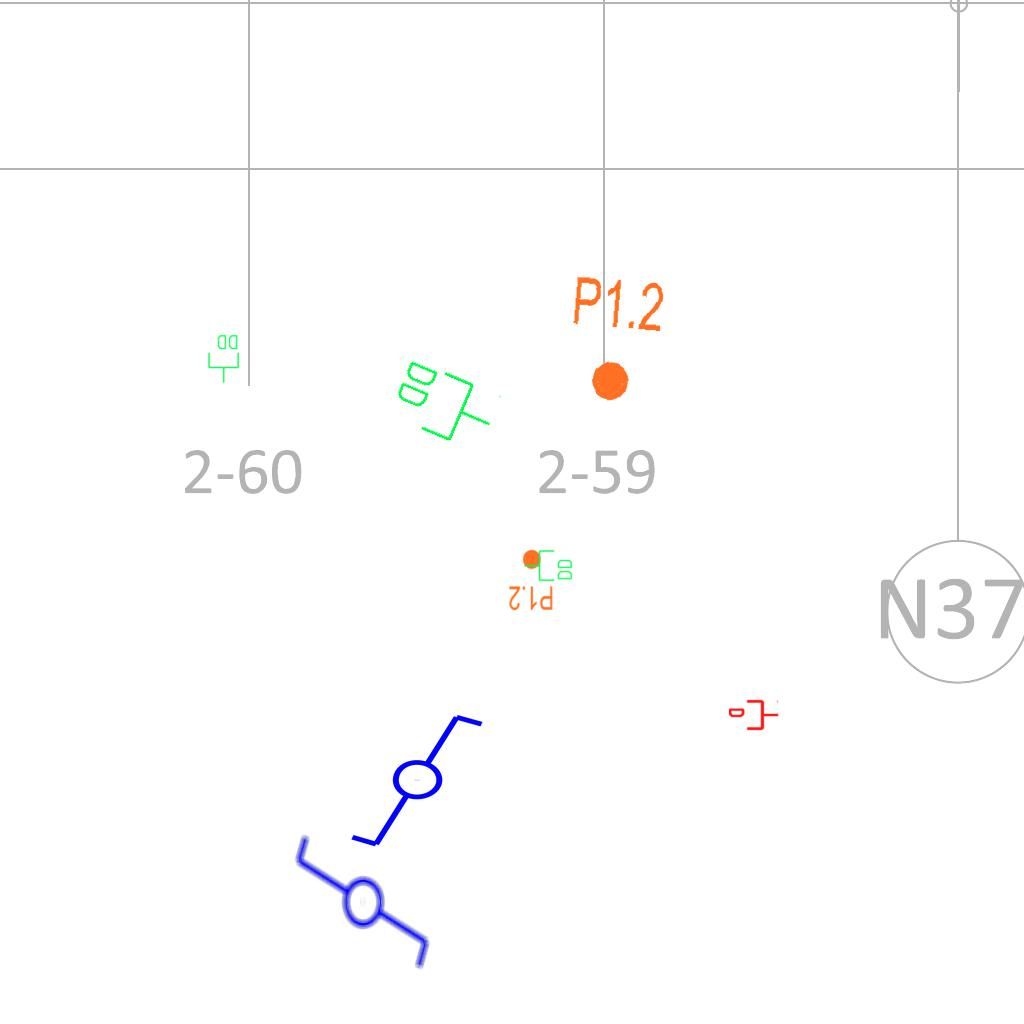Datenanschluss_einfach: (729, 698, 779, 732)
Datenanschluss_zweifach: (383, 352, 506, 457), (207, 333, 241, 384), (523, 549, 574, 583)
Downlight_LED_Einbauleuchten_Flur: (563, 272, 668, 408), (508, 548, 554, 612)
Wechselschalter: (289, 832, 433, 989), (347, 710, 504, 854)
